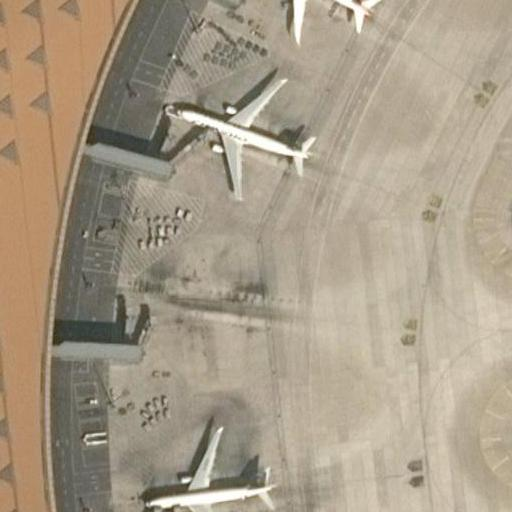Aircraft: (173, 63, 321, 205), (145, 412, 283, 512), (247, 0, 390, 42)
